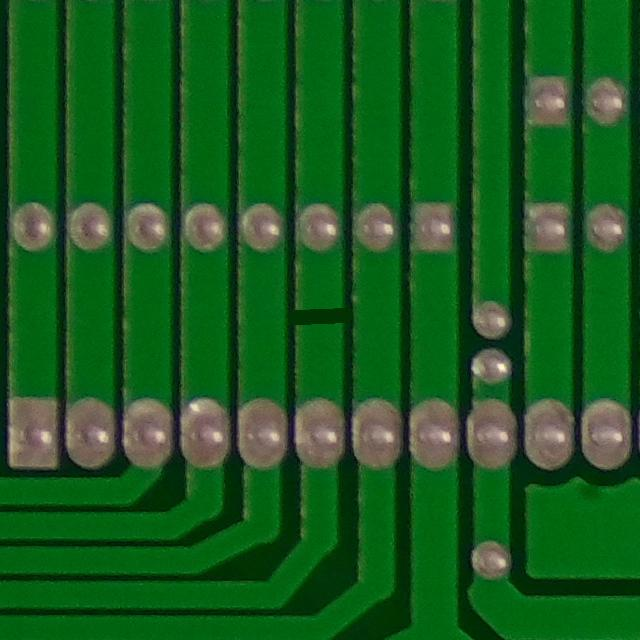open_circuit: (290, 290, 351, 351)
